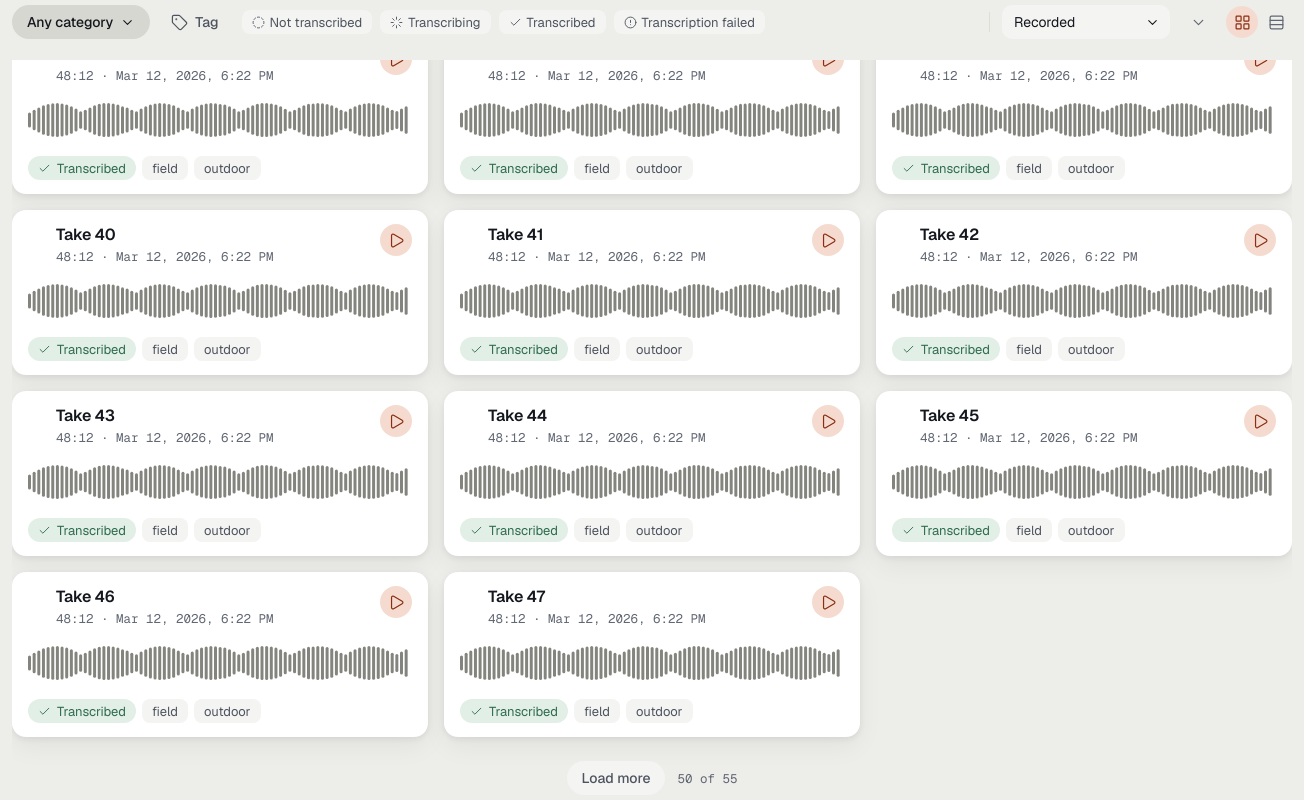
Test: a library longer than one page › draws the first page, says how much of the library that is, and fetches the rest
The image size is (1304, 800).
(page scrolled)
Expected: the text "50 of 55" is shown, [678,770,738,787]
What coordinates should you click on to do the following:
click the button "Load more"
I would click on:
 (616, 778)
Its box is [566,761,666,795].
(page scrolled)
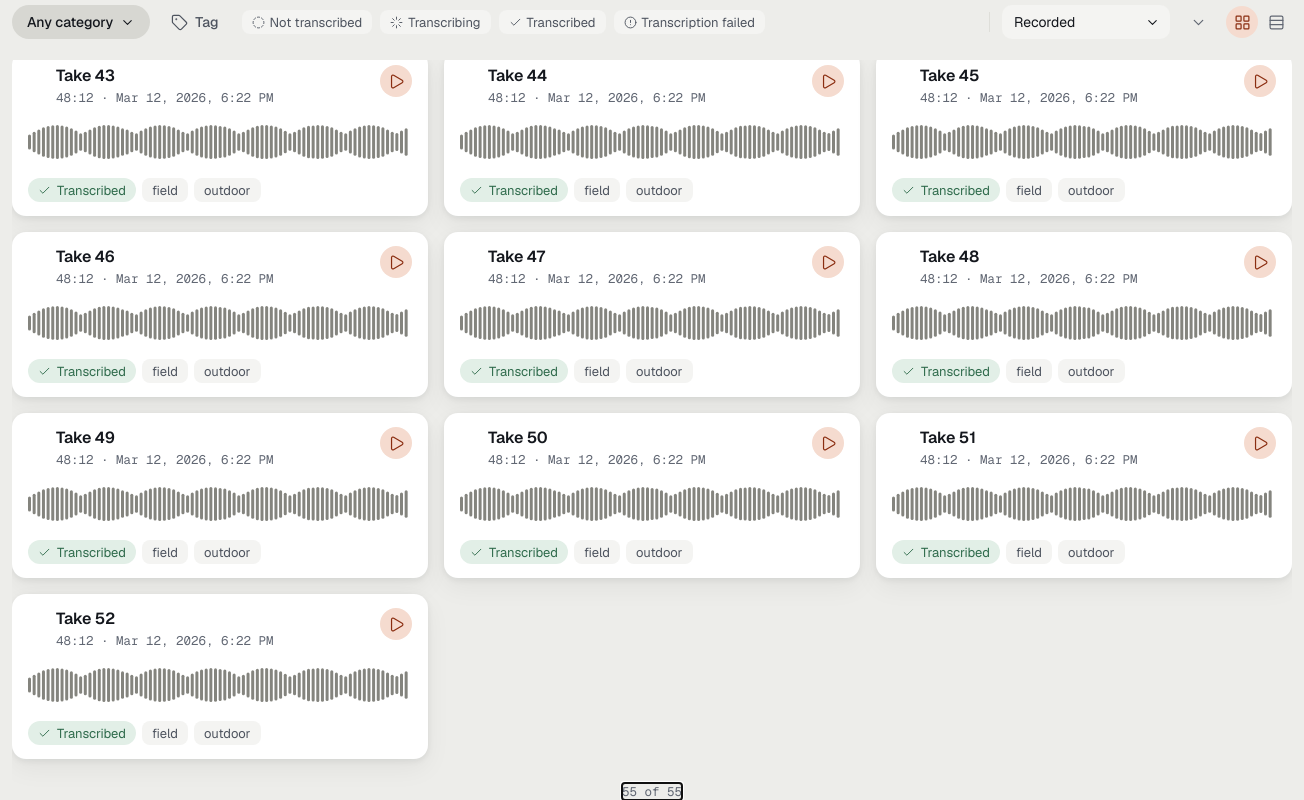
Now the button "Load more" is gone
Now the message reads "55 of 55", box [622,783,682,799]
